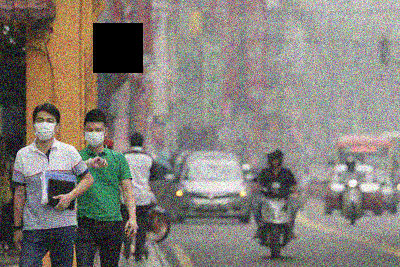with_mask: (34, 115, 56, 142), (83, 125, 105, 149)
